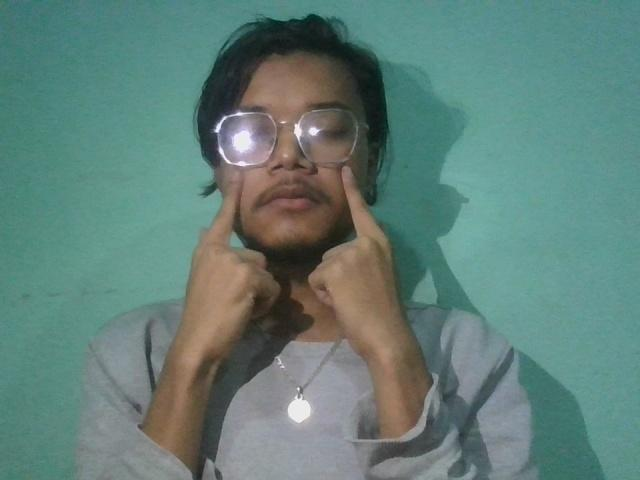Cry: (176, 164, 437, 367)
